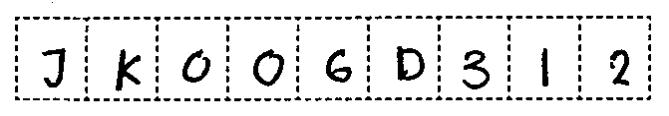0: (245, 46, 290, 91), (178, 45, 216, 89)
1: (526, 41, 562, 92)
2: (600, 44, 641, 94)
3: (454, 43, 495, 92)
6: (320, 41, 357, 91)
D: (387, 37, 429, 87)
J: (31, 41, 76, 91)
K: (108, 45, 145, 96)
